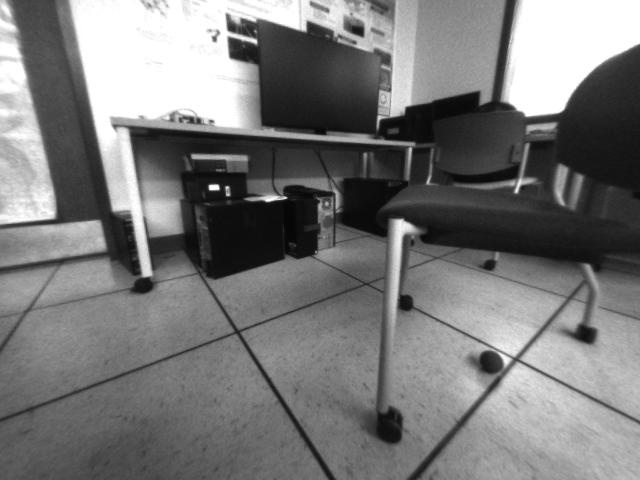dogtoy: (473, 344, 509, 379)
